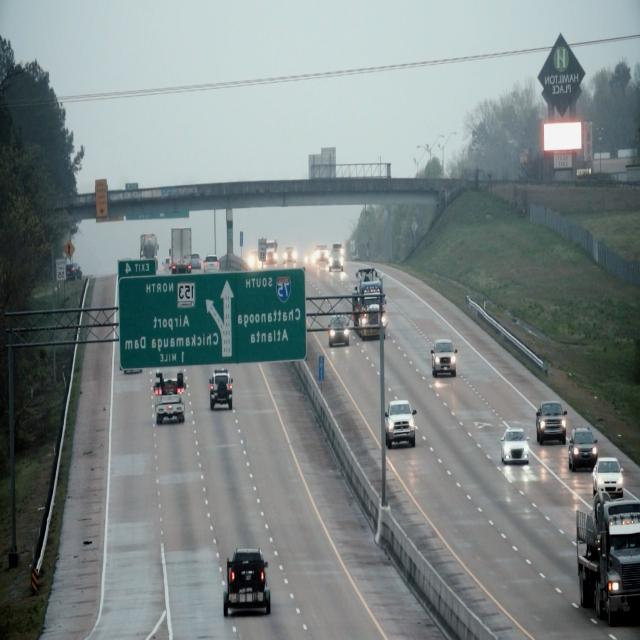Vehicle: (568, 511, 640, 623), (220, 549, 274, 618), (352, 266, 388, 340), (153, 372, 186, 426), (384, 398, 416, 449), (534, 398, 568, 443), (567, 426, 598, 475), (589, 456, 623, 497), (500, 423, 530, 469), (431, 338, 457, 380), (208, 368, 232, 413), (327, 313, 350, 345)
